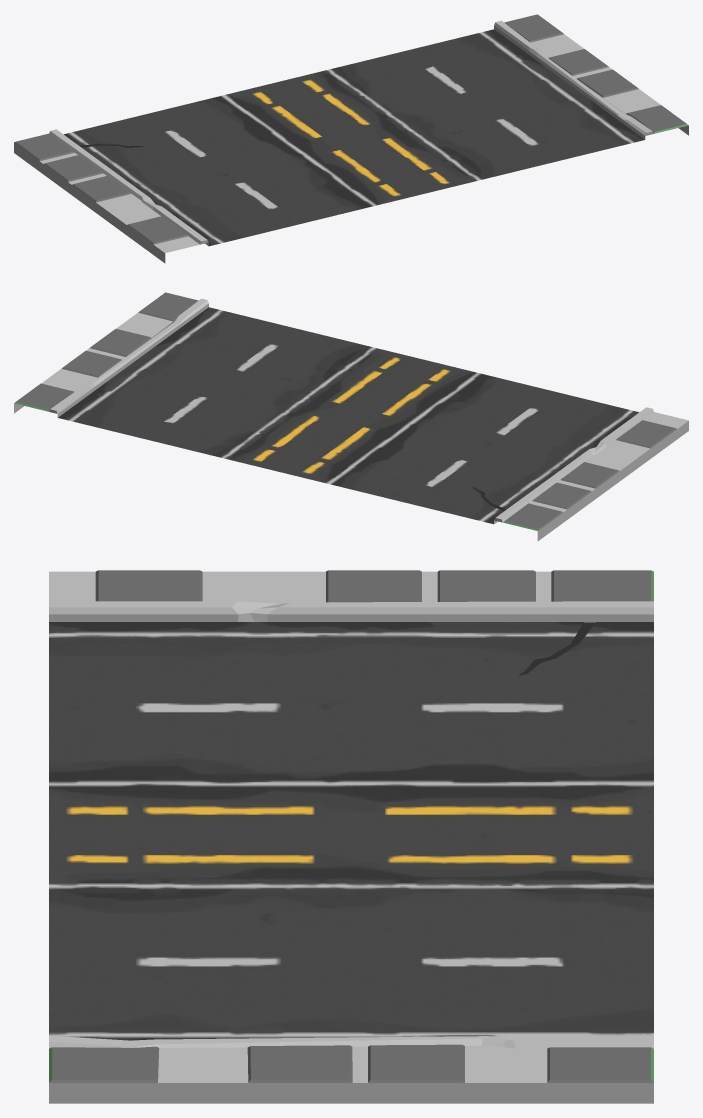
Rendered from Road_Wide_Short.fbx.
The picture shows the model from 3 angles, top to bottom: view 1: azimuth 30°, elevation 25°; view 2: azimuth 150°, elevation 25°; view 3: azimuth 270°, elevation 25°; orthographic projection. The views are drawn at different scales.
Visible parts, largest first — view 1: Road_Wide_Short; view 2: Road_Wide_Short; view 3: Road_Wide_Short.
Part boxes in pixels (x1,y1,x2,y2): Road_Wide_Short: [14, 14, 688, 263]; Road_Wide_Short: [14, 292, 688, 541]; Road_Wide_Short: [49, 570, 653, 1103].
Bounding box in the file's own units: 2400 × 58.25 × 1200.
